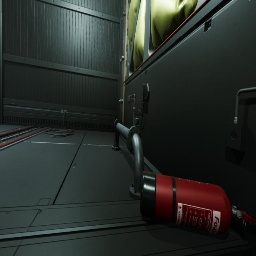FireExtinguisher ]: (140, 170, 256, 234)
